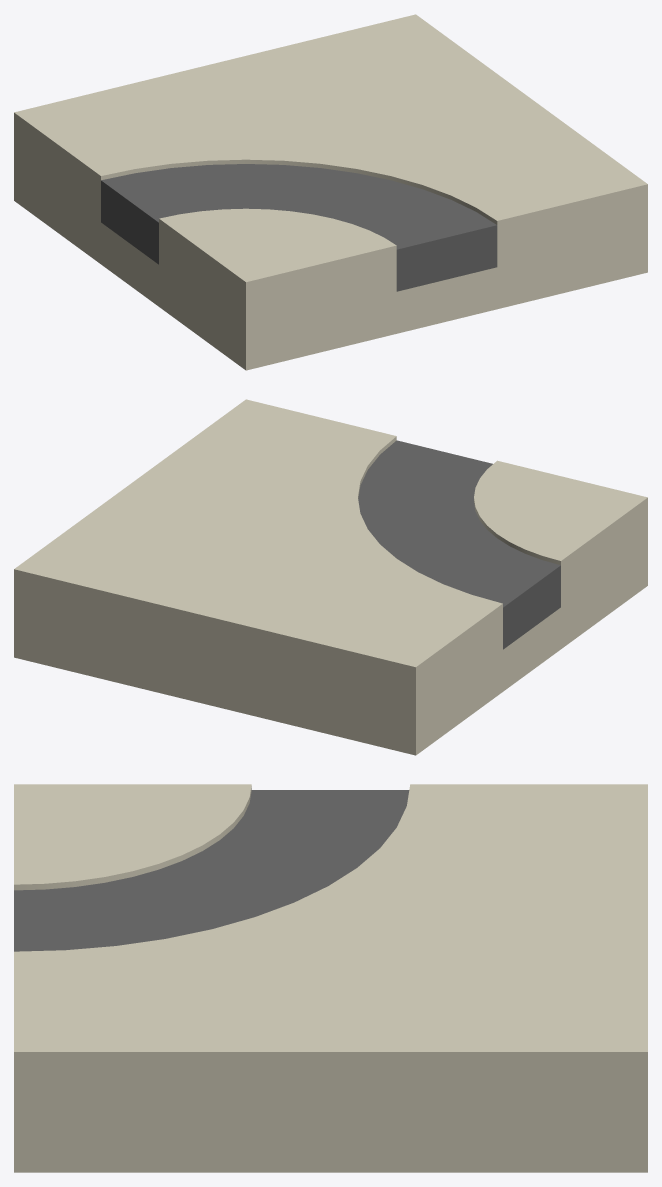
The model's file is tile001.fbx.
3 views of the same model, one above another, from view 1: azimuth 30°, elevation 25°; view 2: azimuth 150°, elevation 25°; view 3: azimuth 270°, elevation 25° (orthographic). The views are drawn at different scales.
Visible parts, largest first — view 1: tile001; view 2: tile001; view 3: tile001.
Boxes of the visible parts, <box> form: tile001: <box>14,14,647,370</box>; tile001: <box>14,399,647,755</box>; tile001: <box>14,784,647,1172</box>.
Size of the model in its own units: 10 by 2.1 by 10.
